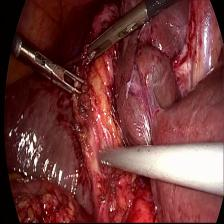Grasper: (78, 7, 138, 66), (50, 66, 90, 104)
Irrigator: (95, 145, 119, 171)
